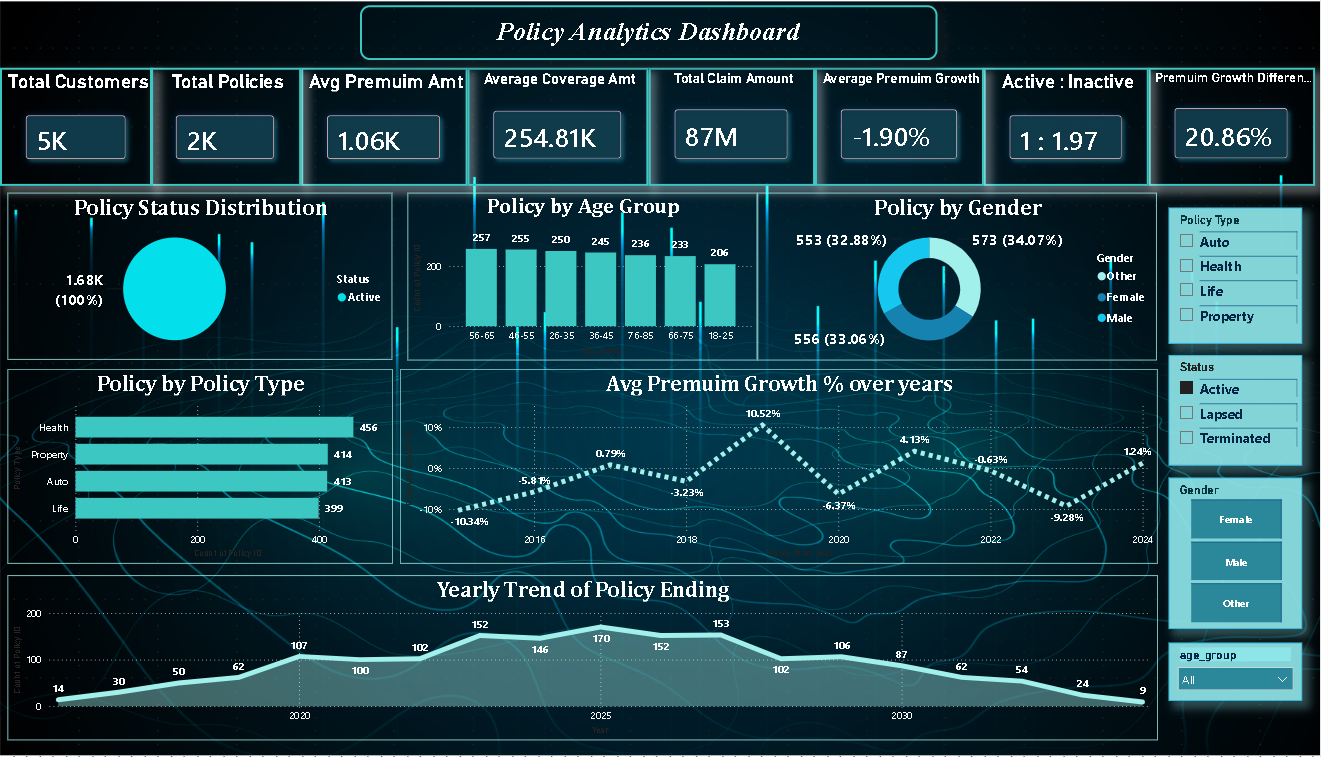

The dashboard page shown, as its layout file describes it:
{"tool":"tableau","page":{"name":"Dashboard 1","canvas":[1000,1000],"units":"permille","ordinal":0},"visuals":[{"type":"title","box":[4.2,9.4,991.5,67]},{"type":"worksheet","title":"6","mark":"Automatic","box":[817.1,63.5,149.7,203.3]},{"type":"worksheet","title":"9","mark":"Automatic","box":[673.5,64.6,148.5,232.7]},{"type":"worksheet","title":"1","mark":"Automatic","box":[100.8,65.8,149.7,203.3]},{"type":"worksheet","title":"3","mark":"Automatic","box":[387.4,65.8,143.6,213.9]},{"type":"worksheet","title":"19","mark":"Automatic","box":[531.1,65.8,158.7,204.5]},{"type":"worksheet","title":"2","mark":"Automatic","box":[244.4,67,146.1,205.6]},{"type":"worksheet","title":"14","mark":"Automatic","rows":["Policy ID"],"cols":["Policy Type"],"box":[783.3,270.3,212.4,271.4]},{"type":"filter","title":"4.1","param":"[federated.1rjwa8y1yr3f7s185h67c1y7q8z6].[none:Policy Type:nk]","box":[6.6,272.6,87.5,171.6]},{"type":"worksheet","title":"4.1","mark":"Automatic","rows":["Coverage Amount"],"cols":["Policy Type"],"box":[102.6,272.6,222.1,264.4]},{"type":"worksheet","title":"12","mark":"Pie","cols":["Calculation_1027810636406789","Calculation_1027810636406789"],"box":[591.4,272.6,190.1,267.9]},{"type":"worksheet","title":"5","mark":"Automatic","rows":["Premium Amount"],"cols":["Policy Type"],"box":[327.7,273.8,260.7,265.6]},{"type":"filter","title":"7,8","param":"[federated.1rjwa8y1yr3f7s185h67c1y7q8z6].[none:Status:nk]","box":[6.9,450.1,87.9,141]},{"type":"worksheet","title":"20","mark":"Line","rows":["Policy ID"],"cols":["Policy End Date"],"box":[543.1,542.9,436.9,226.8]},{"type":"worksheet","title":"15","mark":"Automatic","rows":["Policy Type"],"cols":["Policy ID"],"box":[329.5,544.1,211.8,226.8]},{"type":"worksheet","title":"7,8","mark":"Pie","box":[99.6,546.4,227.5,224.4]},{"type":"filter","title":"12","param":"[federated.1rjwa8y1yr3f7s185h67c1y7q8z6].[none:Calculation_1027810632351748:nk]","box":[6.6,598.1,89.3,208]},{"type":"worksheet","title":"13","mark":"Automatic","box":[849.7,774.4,153.3,212.7]},{"type":"worksheet","title":"10,11","mark":"Automatic","rows":["Policy Type"],"cols":["Calculation_1027810632351748"],"box":[587.8,776.7,258.3,205.6]},{"type":"worksheet","title":"18","mark":"Automatic","rows":["Premium Amount"],"cols":["Policy Start Date"],"box":[97.2,780.3,488.2,205.6]},{"type":"filter","title":"12","param":"[federated.1rjwa8y1yr3f7s185h67c1y7q8z6].[none:Gender:nk]","box":[7.2,815.5,86.9,170.4]}]}

Visuals, with their boxes on the dashboard's canvas, which has no fixed pixel size, in thousandths of its width and height (x1, y1, x2, y2). These are canvas units, not pixel positions in the 1321x757 screenshot, which may show the page scaled, cropped or inside an application window:
title: box=[4, 9, 996, 76]
"6" worksheet: box=[817, 64, 967, 267]
"9" worksheet: box=[674, 65, 822, 297]
"1" worksheet: box=[101, 66, 250, 269]
"3" worksheet: box=[387, 66, 531, 280]
"19" worksheet: box=[531, 66, 690, 270]
"2" worksheet: box=[244, 67, 390, 273]
"14" worksheet: box=[783, 270, 996, 542]
"4.1" filter: box=[7, 273, 94, 444]
"4.1" worksheet: box=[103, 273, 325, 537]
"12" worksheet (Pie marks): box=[591, 273, 782, 540]
"5" worksheet: box=[328, 274, 588, 539]
"7,8" filter: box=[7, 450, 95, 591]
"20" worksheet (Line marks): box=[543, 543, 980, 770]
"15" worksheet: box=[330, 544, 541, 771]
"7,8" worksheet (Pie marks): box=[100, 546, 327, 771]
"12" filter: box=[7, 598, 96, 806]
"13" worksheet: box=[850, 774, 1003, 987]
"10,11" worksheet: box=[588, 777, 846, 982]
"18" worksheet: box=[97, 780, 585, 986]
"12" filter: box=[7, 816, 94, 986]
